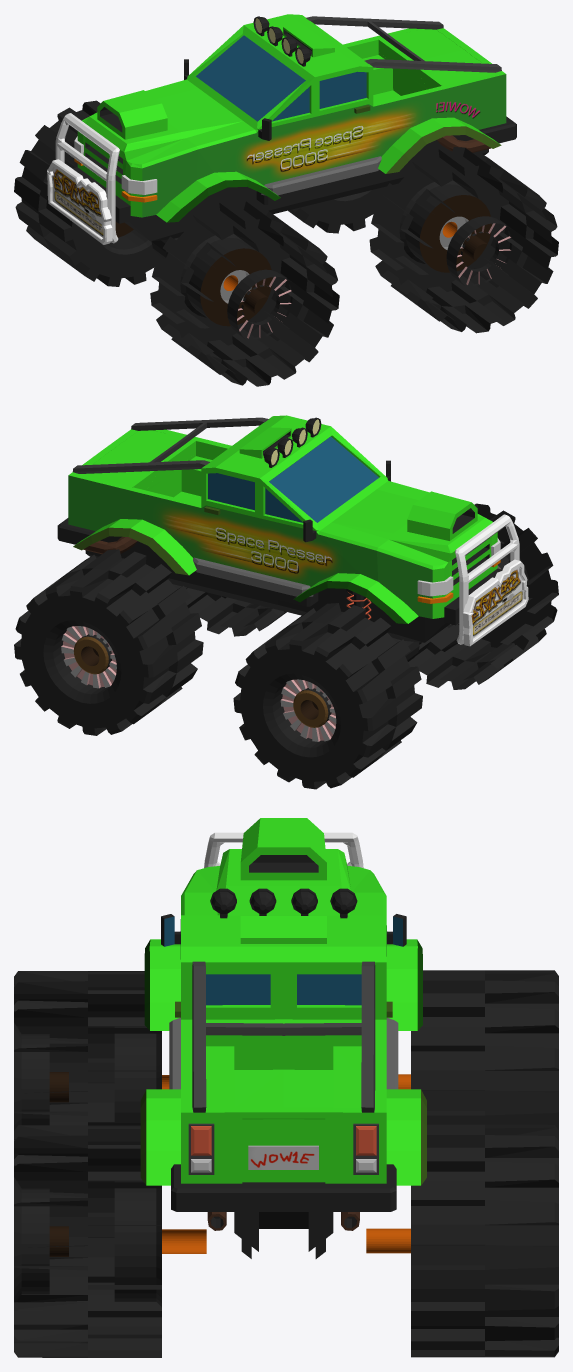
File: truck.dae
3 renders of one model, top to bottom at view 1: azimuth 30°, elevation 25°; view 2: azimuth 150°, elevation 25°; view 3: azimuth 270°, elevation 25°, orthographic. The views are drawn at different scales.
Parts seen in each view (by area): view 1: Body, WheelBL, WheelFL, WheelFR, Logo, WheelBR, Grill; view 2: Body, WheelBR, WheelFR, WheelFL, Logo, WheelBL, Grill; view 3: Body, WheelBR, WheelBL, WheelFR, WheelFL, Backplate, Grill.
Part boxes in pixels (x1=…): Body: x1=72, y1=14, x2=516, y2=241; WheelBL: x1=369, y1=147, x2=558, y2=333; WheelFL: x1=150, y1=200, x2=339, y2=386; WheelFR: x1=14, y1=100, x2=165, y2=286; Logo: x1=47, y1=159, x2=112, y2=244; WheelBR: x1=288, y1=183, x2=397, y2=233; Grill: x1=55, y1=113, x2=119, y2=243; Body: x1=57, y1=415, x2=502, y2=642; WheelBR: x1=14, y1=549, x2=203, y2=735; WheelFR: x1=233, y1=603, x2=422, y2=789; WheelFL: x1=408, y1=503, x2=558, y2=689; Logo: x1=462, y1=559, x2=528, y2=646; WheelBL: x1=173, y1=584, x2=286, y2=636; Grill: x1=455, y1=514, x2=519, y2=644; Body: x1=140, y1=818, x2=426, y2=1258; WheelBR: x1=366, y1=1124, x2=558, y2=1357; WheelBL: x1=14, y1=1125, x2=206, y2=1357; WheelFR: x1=398, y1=970, x2=558, y2=1129; WheelFL: x1=14, y1=971, x2=169, y2=1130; Backplate: x1=248, y1=1145, x2=318, y2=1169; Grill: x1=204, y1=832, x2=363, y2=867.
Size of what is drawn, in the model's own units: 6.54 by 5.3 by 4.02.
Materials: 4 (4 with a texture image).
